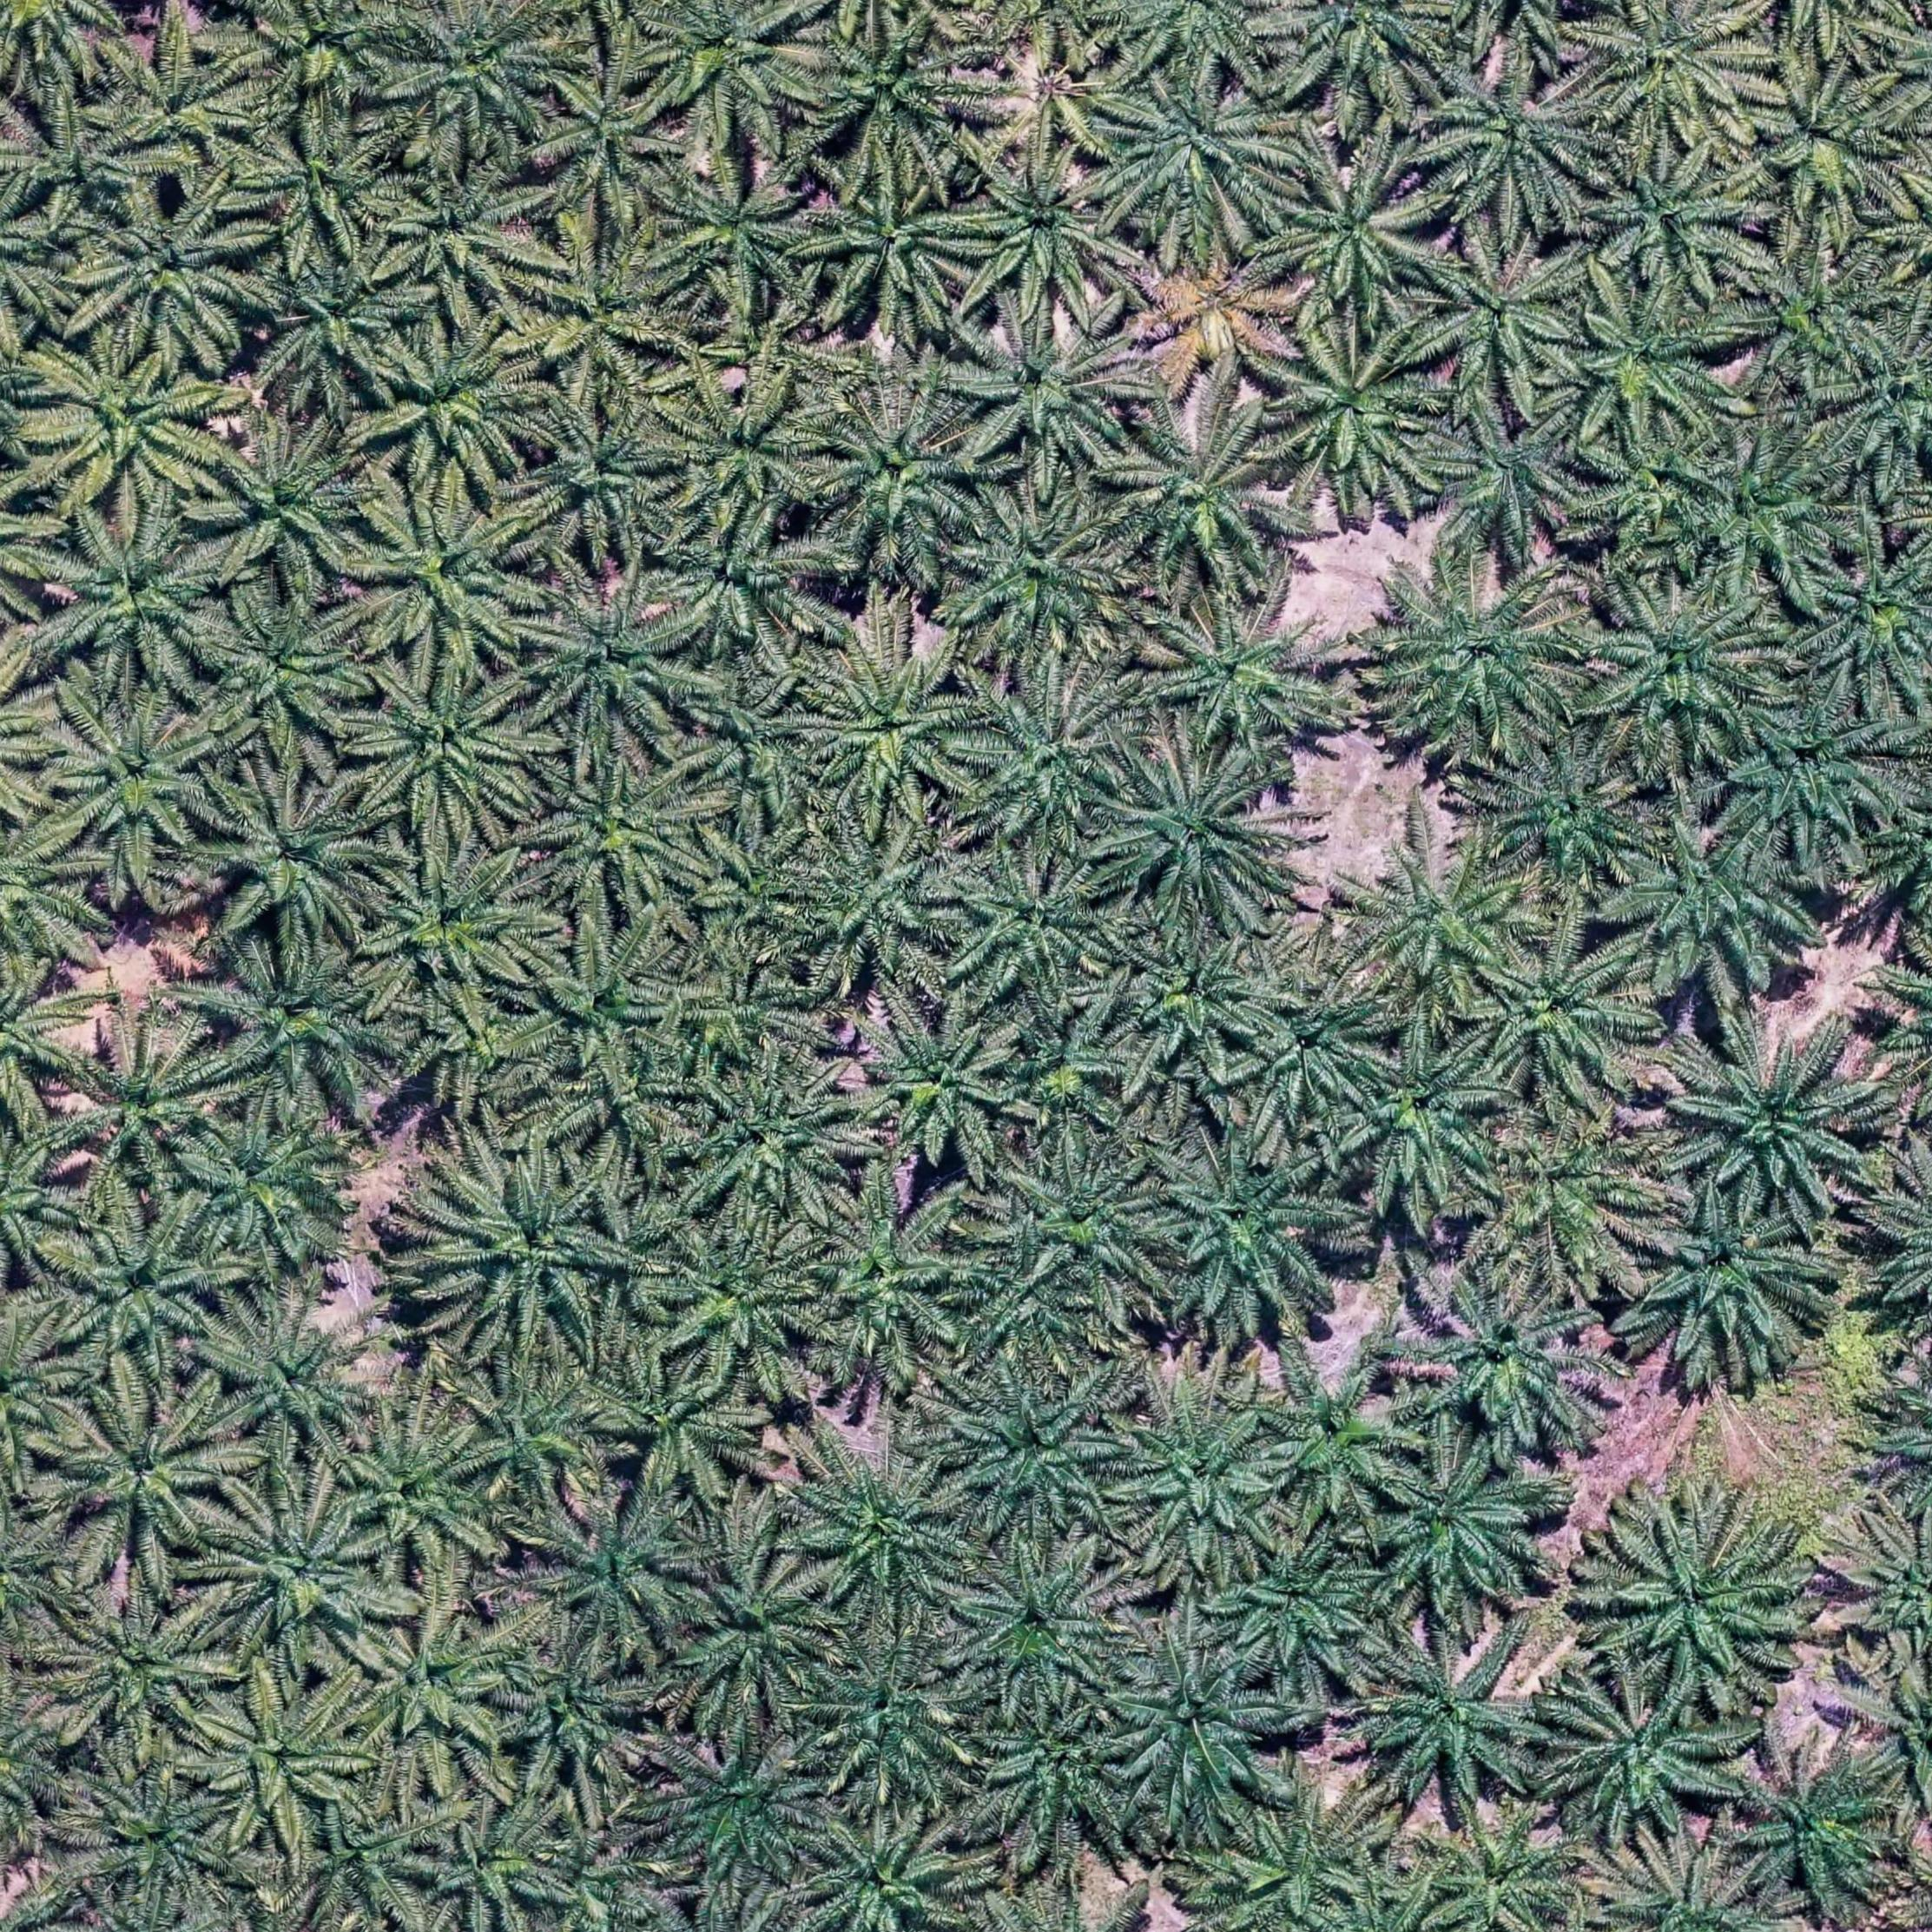palmtree: (1583, 1497, 1810, 1702), (1667, 1014, 1884, 1214), (1368, 556, 1587, 750), (418, 1154, 628, 1355), (1629, 1189, 1833, 1378), (207, 943, 416, 1123), (1615, 814, 1819, 991), (1155, 1136, 1348, 1320), (1410, 1274, 1605, 1454), (352, 485, 543, 667), (1099, 65, 1297, 241), (1109, 402, 1297, 586), (1267, 322, 1454, 504), (42, 506, 234, 685), (1332, 1021, 1514, 1203), (796, 157, 984, 333), (1366, 1628, 1555, 1801), (1102, 750, 1293, 922), (209, 771, 395, 947), (34, 340, 223, 511), (1104, 1644, 1286, 1821), (1346, 839, 1537, 1007), (83, 193, 269, 364), (954, 483, 1131, 660), (48, 694, 228, 867), (356, 663, 541, 832), (1594, 582, 1780, 750), (955, 308, 1143, 474), (676, 1062, 867, 1224), (55, 1391, 237, 1560), (1155, 589, 1343, 754), (1272, 147, 1449, 320), (957, 145, 1136, 317), (1424, 55, 1603, 226), (1490, 1104, 1670, 1274), (805, 642, 980, 816), (807, 1191, 975, 1371), (525, 573, 708, 740), (216, 1491, 393, 1661), (57, 1205, 235, 1373), (1552, 1681, 1737, 1840), (533, 754, 718, 913), (370, 322, 547, 488), (363, 844, 547, 1003), (1730, 1748, 1905, 1914), (1729, 690, 1905, 855), (1555, 281, 1736, 442), (1683, 435, 1863, 596), (207, 425, 380, 591), (809, 393, 985, 556), (1376, 1445, 1555, 1606), (1741, 57, 1911, 225), (524, 230, 697, 395), (1476, 931, 1651, 1093), (186, 1109, 363, 1269), (803, 21, 982, 179), (964, 686, 1138, 847), (57, 1591, 232, 1750), (1587, 143, 1764, 301), (860, 1003, 1028, 1168), (211, 589, 380, 752), (798, 1445, 970, 1606), (1424, 398, 1599, 556), (656, 502, 833, 658), (202, 1681, 373, 1840), (954, 1375, 1127, 1532), (540, 1495, 709, 1654), (253, 244, 423, 403), (354, 1612, 525, 1769), (791, 823, 964, 978), (1261, 1348, 1422, 1514), (961, 1545, 1131, 1702), (60, 1028, 230, 1185), (1116, 1407, 1288, 1562), (810, 1635, 973, 1798), (338, 1417, 506, 1575), (520, 1030, 692, 1184), (212, 1307, 386, 1460), (389, 2, 564, 152), (959, 19, 1134, 170), (589, 1345, 759, 1499), (1419, 239, 1585, 395), (1585, 0, 1766, 143), (679, 1550, 846, 1704), (495, 1638, 660, 1792), (1008, 1148, 1175, 1300), (662, 1737, 832, 1886), (660, 154, 824, 306), (662, 1224, 828, 1375), (649, 0, 826, 140), (456, 1359, 625, 1506), (950, 858, 1123, 1000), (379, 159, 547, 304), (1486, 745, 1656, 888), (1734, 246, 1898, 391), (1224, 1534, 1382, 1684), (541, 58, 688, 219), (529, 398, 690, 543), (241, 120, 405, 260), (0, 76, 152, 225), (391, 971, 548, 1115), (977, 1698, 1136, 1840), (669, 382, 832, 518), (1231, 984, 1389, 1123), (76, 1766, 234, 1904), (1118, 925, 1276, 1063), (1417, 1808, 1587, 1932), (525, 939, 681, 1072), (1226, 1801, 1384, 1932), (1270, 0, 1458, 110), (801, 1812, 971, 1932), (1801, 543, 1932, 697), (683, 676, 832, 810), (110, 37, 257, 166), (1152, 246, 1295, 377), (244, 0, 410, 111), (1592, 416, 1732, 547), (426, 1812, 575, 1932), (304, 1799, 441, 1923), (1599, 1842, 1783, 1932), (0, 1307, 92, 1479), (0, 809, 99, 968), (1104, 0, 1290, 83), (0, 1115, 90, 1284), (962, 1246, 1093, 1361), (0, 962, 96, 1120), (695, 824, 821, 943), (1005, 1010, 1134, 1123), (1838, 1513, 1932, 1668), (681, 961, 810, 1072), (1838, 329, 1932, 481), (527, 1838, 676, 1932), (0, 166, 81, 336), (1414, 0, 1608, 58), (0, 0, 133, 78), (1746, 0, 1907, 51)
